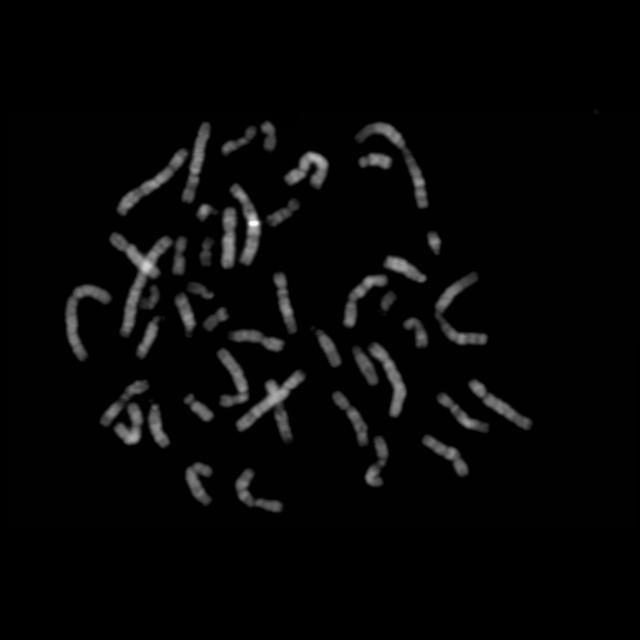chromosome: (354, 120, 426, 208), (113, 148, 187, 216), (122, 234, 170, 336), (236, 371, 304, 432), (434, 272, 486, 344), (65, 284, 110, 362), (470, 378, 530, 428), (230, 184, 262, 266), (369, 344, 405, 416), (99, 376, 149, 426), (108, 232, 162, 276), (344, 272, 388, 326), (332, 392, 370, 448), (436, 394, 488, 434), (233, 470, 282, 510), (422, 435, 468, 477), (218, 348, 248, 408), (284, 153, 330, 189), (266, 381, 292, 442), (272, 272, 296, 336), (112, 404, 144, 446), (228, 330, 284, 352), (136, 316, 164, 358), (366, 436, 389, 486), (186, 462, 212, 506), (384, 257, 426, 283), (220, 125, 255, 155), (172, 293, 198, 333), (351, 346, 377, 386), (314, 329, 342, 366), (148, 403, 170, 447), (267, 200, 301, 226), (403, 315, 429, 349), (222, 207, 236, 269), (182, 394, 213, 420), (201, 305, 229, 333), (170, 236, 188, 278), (186, 280, 214, 302), (140, 284, 160, 314), (195, 202, 220, 224), (358, 153, 392, 169), (426, 229, 444, 257), (378, 288, 397, 314), (198, 238, 212, 270), (262, 123, 276, 151)
